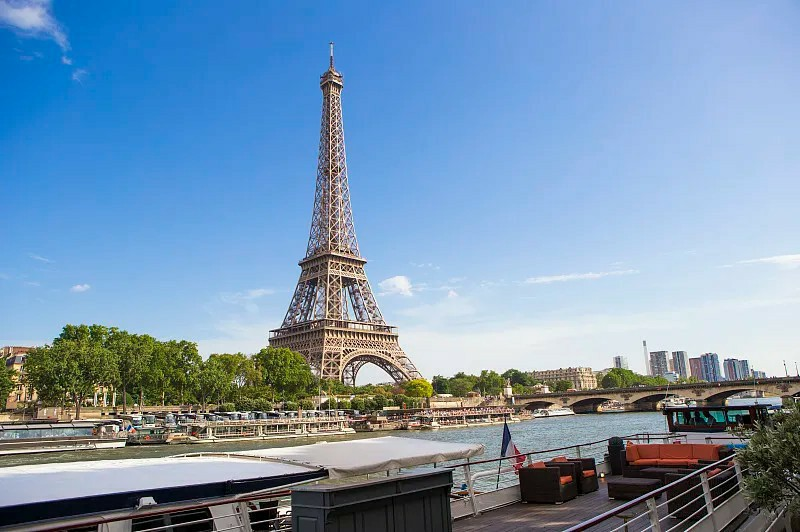Eiffel: (268, 41, 424, 395)
